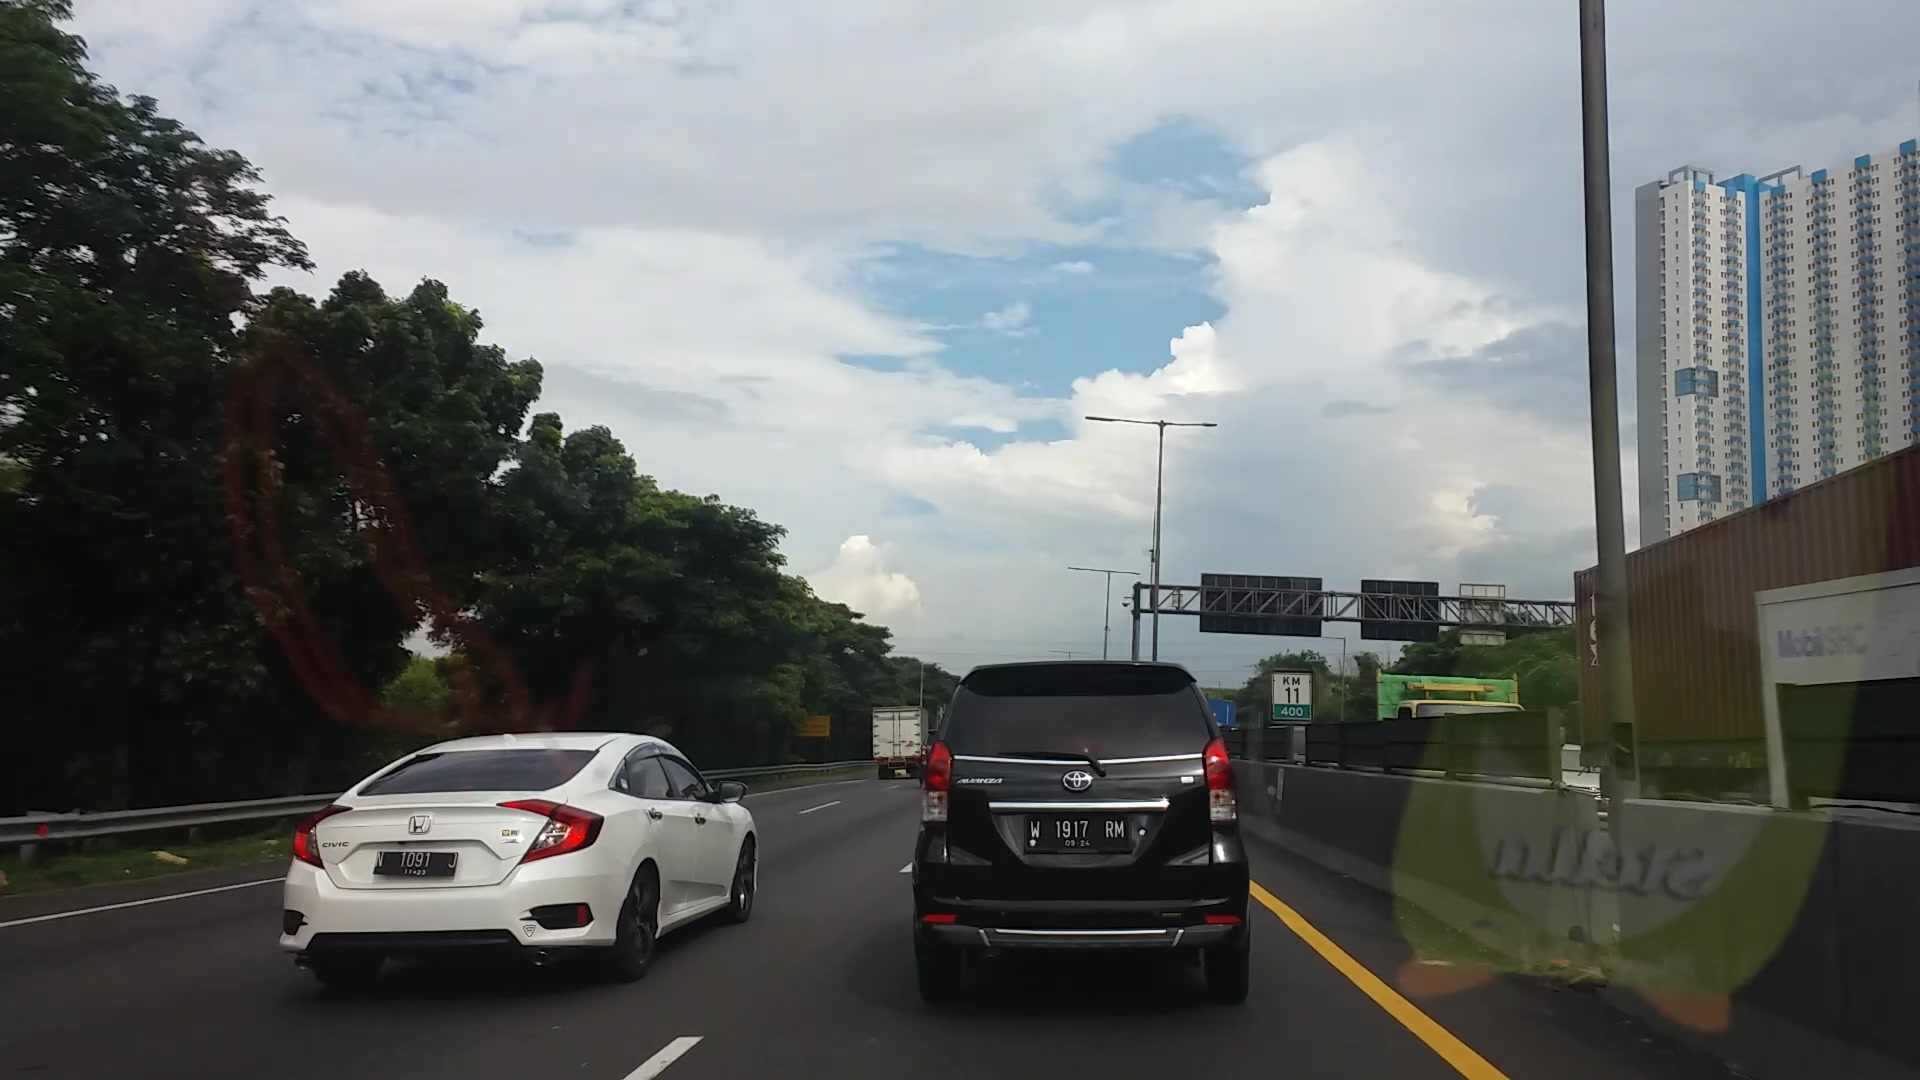plate_positive: (1026, 816, 1127, 849)
